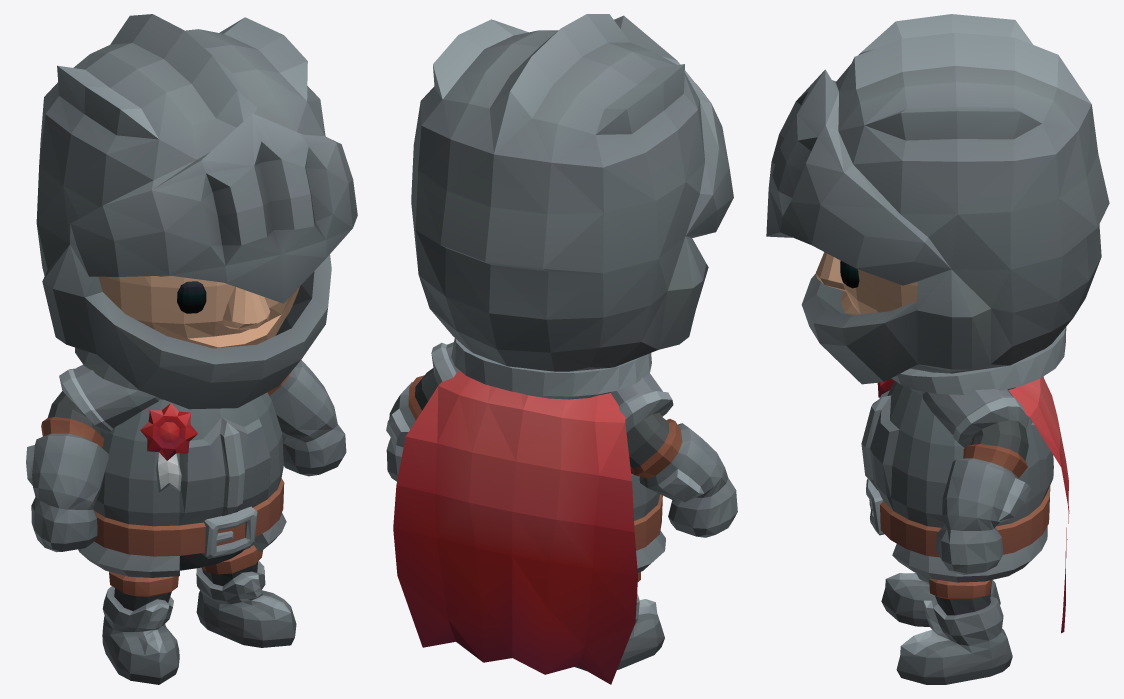
File: knight.glb
The picture shows the model from 3 angles, left to right: view 1: azimuth 30°, elevation 25°; view 2: azimuth 150°, elevation 25°; view 3: azimuth 270°, elevation 25°; orthographic projection.
Parts seen in each view (by area): view 1: knight; view 2: knight; view 3: knight.
Boxes of the visible parts, x1,y1,x2,y2 form: knight: (26,14,357,684); knight: (386,14,737,684); knight: (766,14,1109,684).
Bounding box in the file's own units: 0.5396 × 0.9998 × 0.5124.
